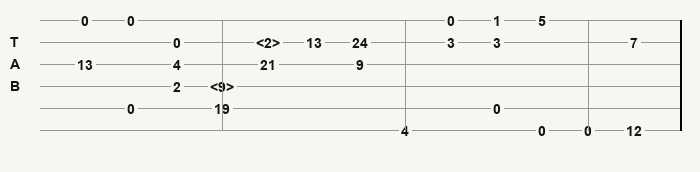0: (81, 13, 93, 27), (127, 101, 139, 115), (127, 13, 139, 27), (173, 35, 185, 49), (447, 13, 459, 27), (493, 101, 505, 115), (538, 123, 550, 137), (584, 123, 596, 137)
1: (493, 13, 505, 27)
12: (626, 123, 646, 137)
13: (77, 57, 97, 71), (306, 35, 326, 49)
19: (214, 101, 234, 115)
2: (173, 79, 185, 93)
21: (260, 57, 280, 71)
24: (352, 35, 372, 49)
3: (447, 35, 459, 49), (493, 35, 505, 49)
4: (173, 57, 185, 71), (401, 123, 413, 137)
5: (538, 13, 550, 27)
7: (630, 35, 642, 49)
9: (356, 57, 368, 71)
harmonic: (210, 79, 238, 93), (256, 35, 284, 49)
